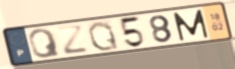5: (115, 15, 146, 49)
8: (148, 14, 175, 44)
M: (171, 8, 211, 43)
Q: (27, 27, 63, 59), (86, 20, 121, 52)
Z: (55, 24, 91, 56)
